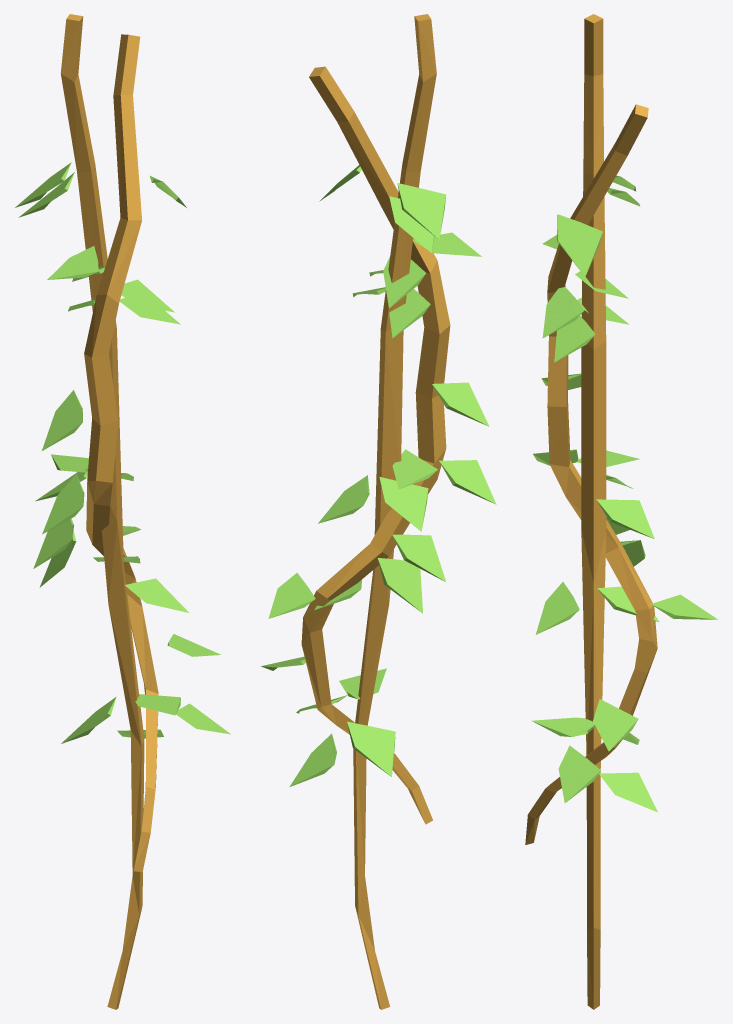
Rendered from ivy_02.fbx.
3 views of the same model, side by side, from view 1: azimuth 30°, elevation 25°; view 2: azimuth 150°, elevation 25°; view 3: azimuth 270°, elevation 25° (orthographic). The views are drawn at different scales.
Visible parts, largest first — view 1: ivy_02; view 2: ivy_02; view 3: ivy_02.
Boxes of the visible parts, <box> form: ivy_02: <box>15,14,230,1009</box>; ivy_02: <box>261,14,496,1009</box>; ivy_02: <box>525,14,718,1009</box>.
Size of the model in its own units: 13.26 by 61.08 by 11.02.
